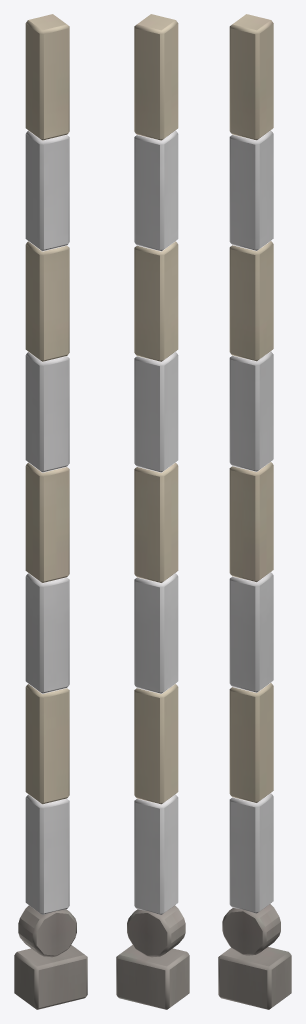
Rendered from tollbooth.barrier.glb.
The picture shows the model from 3 angles, left to right: view 1: azimuth 30°, elevation 25°; view 2: azimuth 150°, elevation 25°; view 3: azimuth 330°, elevation 25°; orthographic projection.
Visible parts, largest first — view 1: arm; view 2: arm; view 3: arm.
Boxes of the visible parts, x1,y1,x2,y2 form: arm: (14,14,87,1009); arm: (116,14,189,1009); arm: (218,14,291,1009).
Bounding box in the file's own units: 0.16 × 2.8 × 0.12.
Materials: 3 (3 with a texture image).
